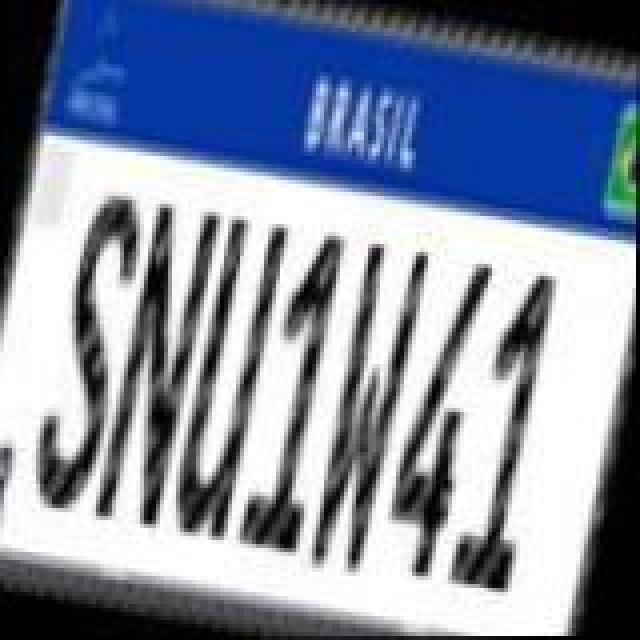1: (444, 256, 576, 596), (232, 222, 364, 558)
4: (376, 240, 504, 580)
N: (90, 190, 226, 534)
S: (20, 180, 152, 516)
U: (160, 206, 292, 550)
W: (302, 234, 434, 582)
